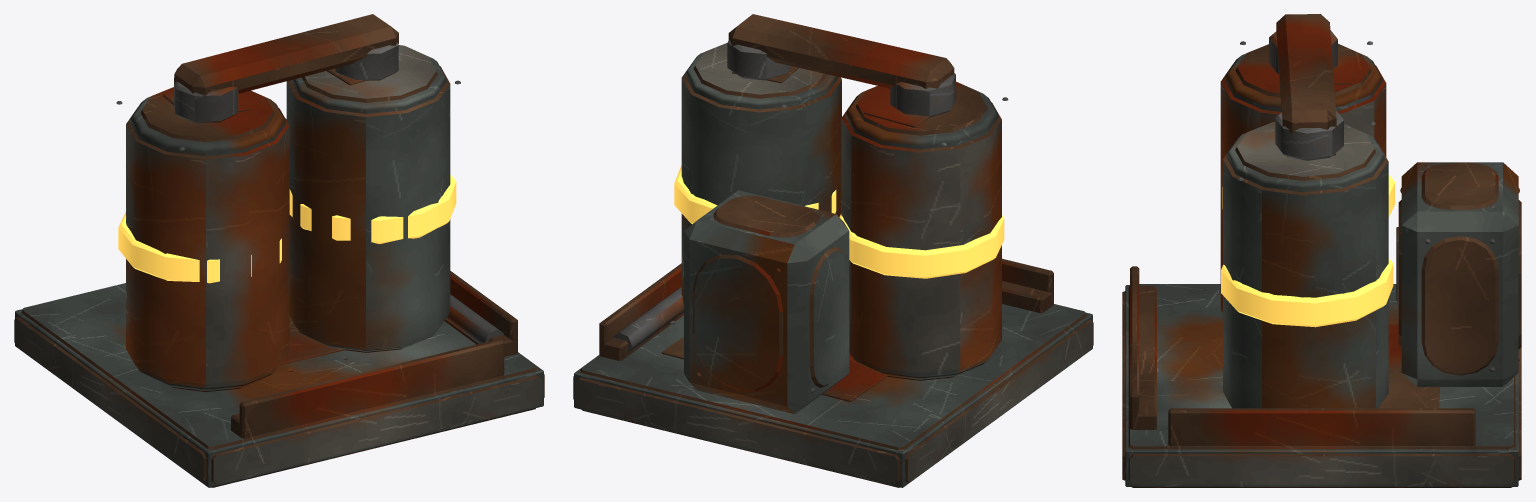
File: R4X_Battery.glb
3 renders of one model, left to right at view 1: azimuth 30°, elevation 25°; view 2: azimuth 150°, elevation 25°; view 3: azimuth 270°, elevation 25°, orthographic. The views are drawn at different scales.
Visible parts, largest first — view 1: R4X_Battery_Body; view 2: R4X_Battery_Body; view 3: R4X_Battery_Body.
Part boxes in pixels (x1,y1,x2,y2): R4X_Battery_Body: [14, 14, 544, 487]; R4X_Battery_Body: [573, 14, 1093, 487]; R4X_Battery_Body: [1122, 14, 1521, 487].
Bounding box in the file's own units: 0.52 × 0.495 × 0.52.
Materials: 5 (4 with a texture image).
